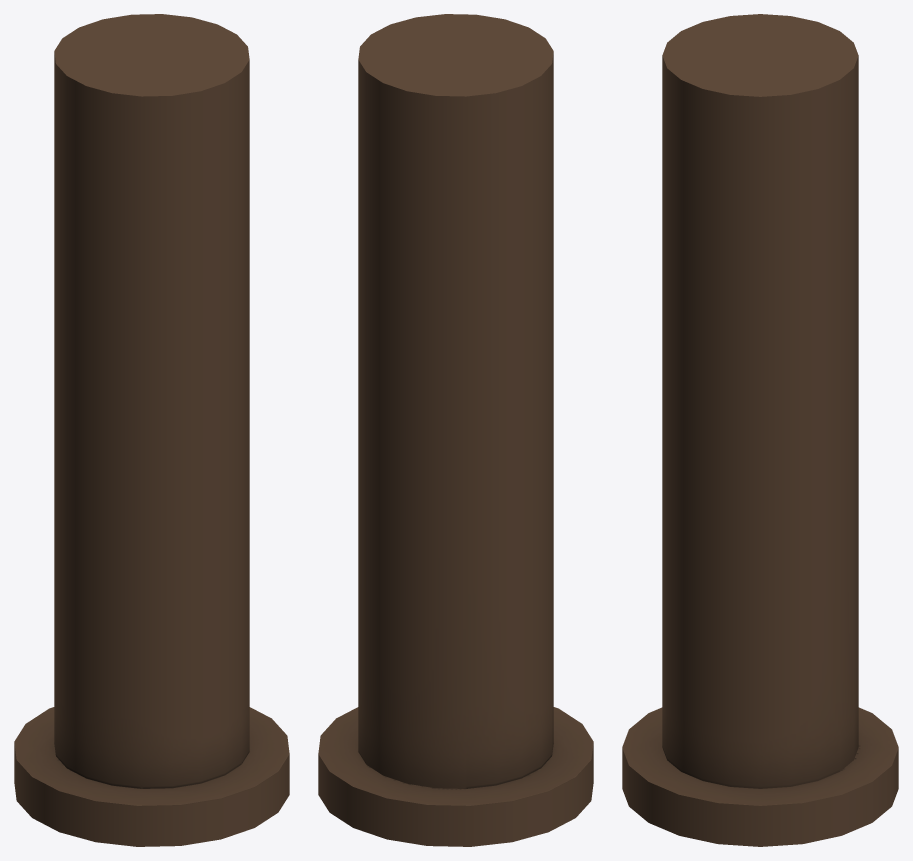
The model's file is PILLAR.obj.
3 renders of one model, left to right at view 1: azimuth 30°, elevation 25°; view 2: azimuth 150°, elevation 25°; view 3: azimuth 270°, elevation 25°, orthographic.
Parts seen in each view (by area): view 1: pCylinder1; view 2: pCylinder1; view 3: pCylinder1.
Boxes of the visible parts, x1,y1,x2,y2 form: pCylinder1: (14,14,289,846); pCylinder1: (318,14,593,846); pCylinder1: (622,14,898,846).
Bounding box in the file's own units: 3.49 × 10.21 × 3.49.
